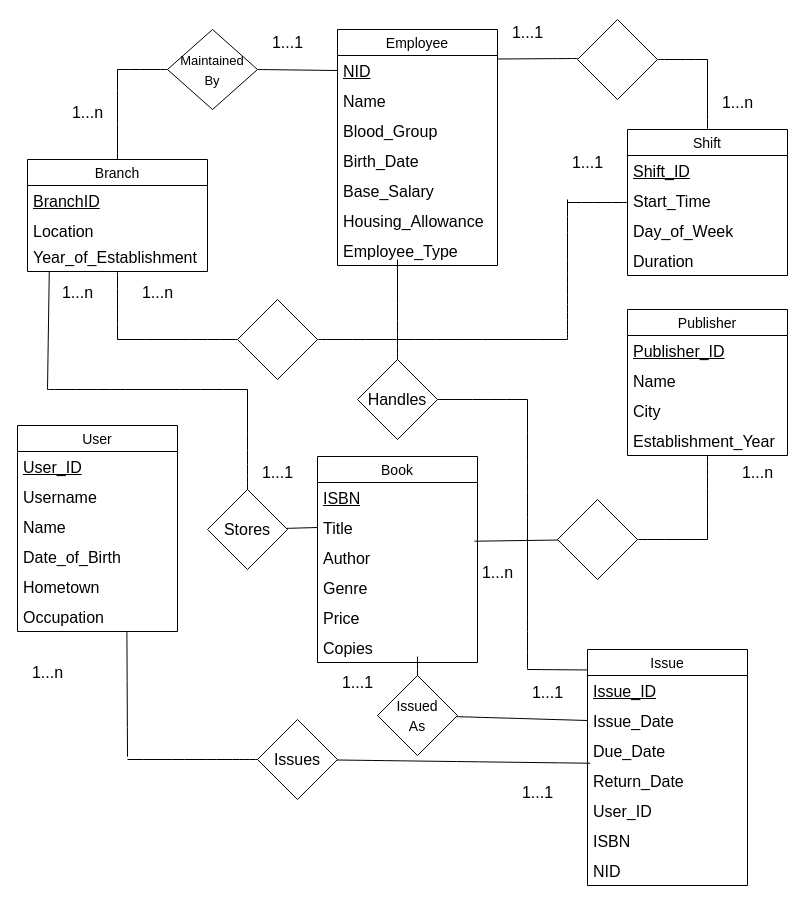
This 805x905 diagram has some shape labels left out. Each missing label, with the centre of its shape:
"Assigned To" goes at point (277, 339).
"Publishes" goes at point (597, 539).
"Works In" goes at point (617, 59).
